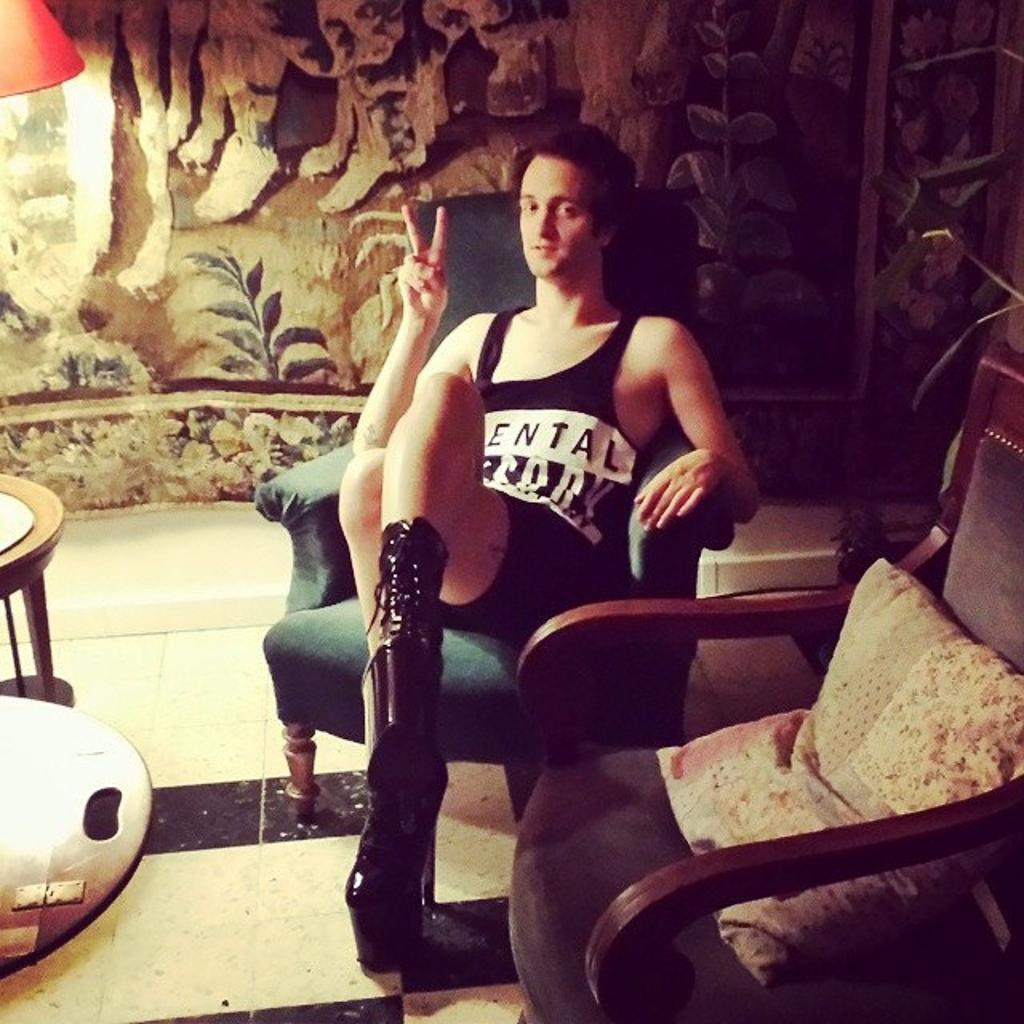face: (518, 152, 598, 278)
